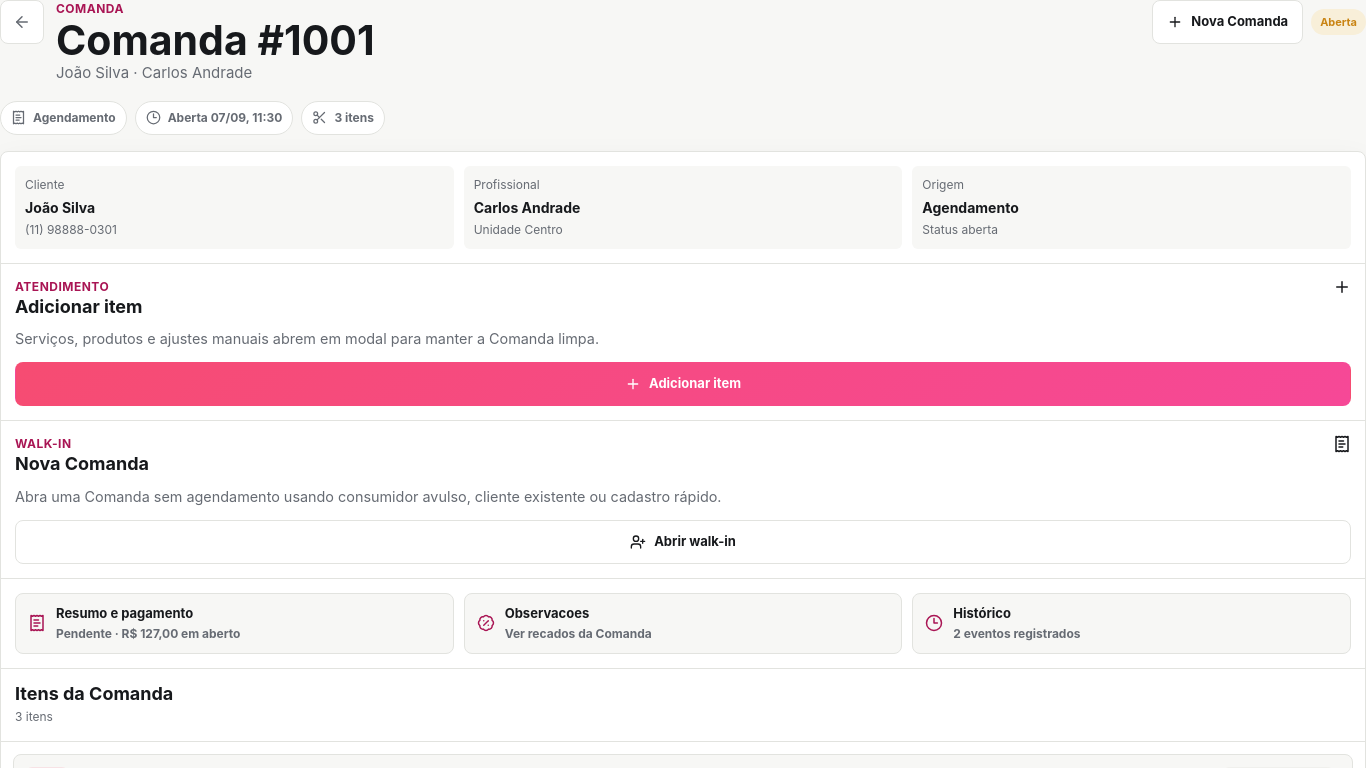
Scenario: OrderView › opens Comanda detail sections in modals instead of lateral panels
Click the button "Resumo e pagamento Pendente · R$ 127,00 em aberto": (234, 623) x1=15 y1=593 x2=454 y2=654
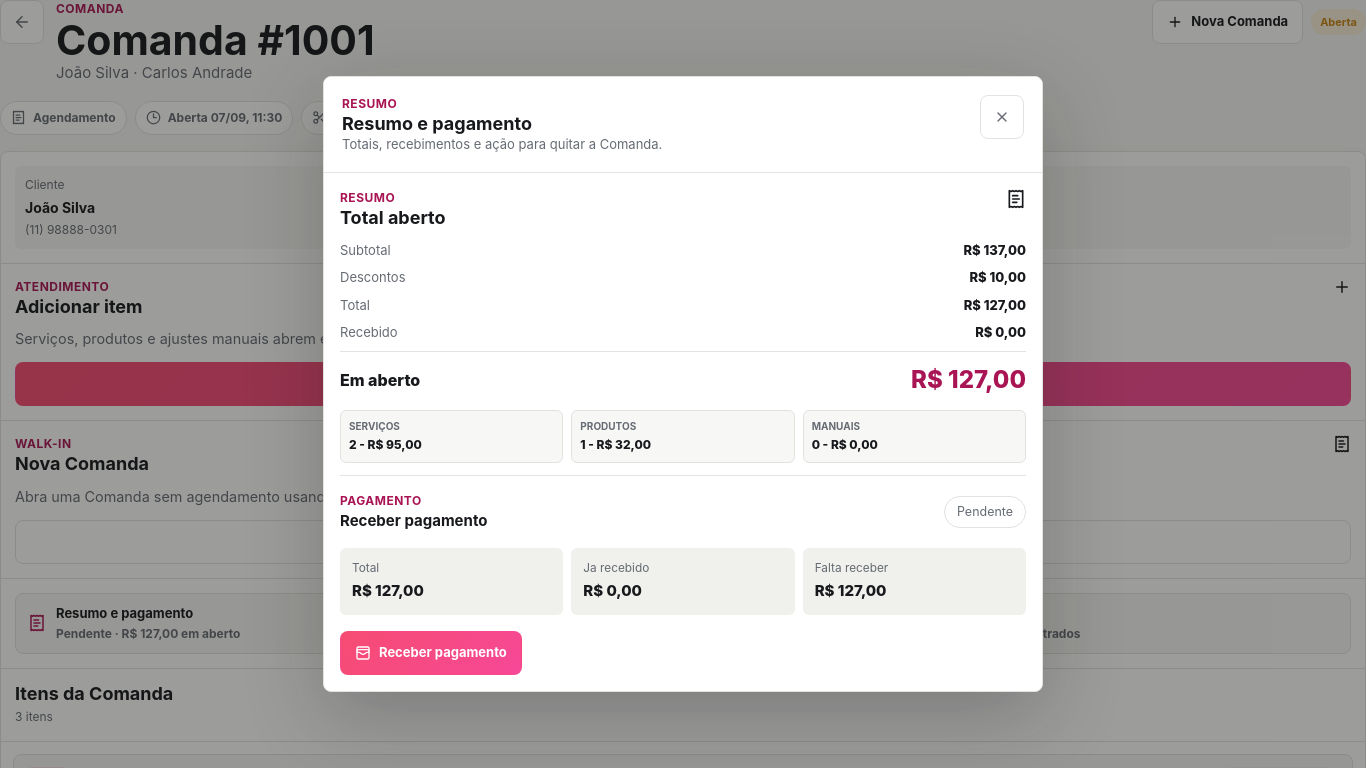
Now the dialog shows "Subtotal", box x1=340 y1=242 x2=391 y2=258
Now the dialog shows "Receber pagamento", box x1=340 y1=511 x2=487 y2=530
Now the button named "Fechar detalhe" is shown
Click the button named "Fechar detalhe": (1002, 117) x1=980 y1=95 x2=1024 y2=139
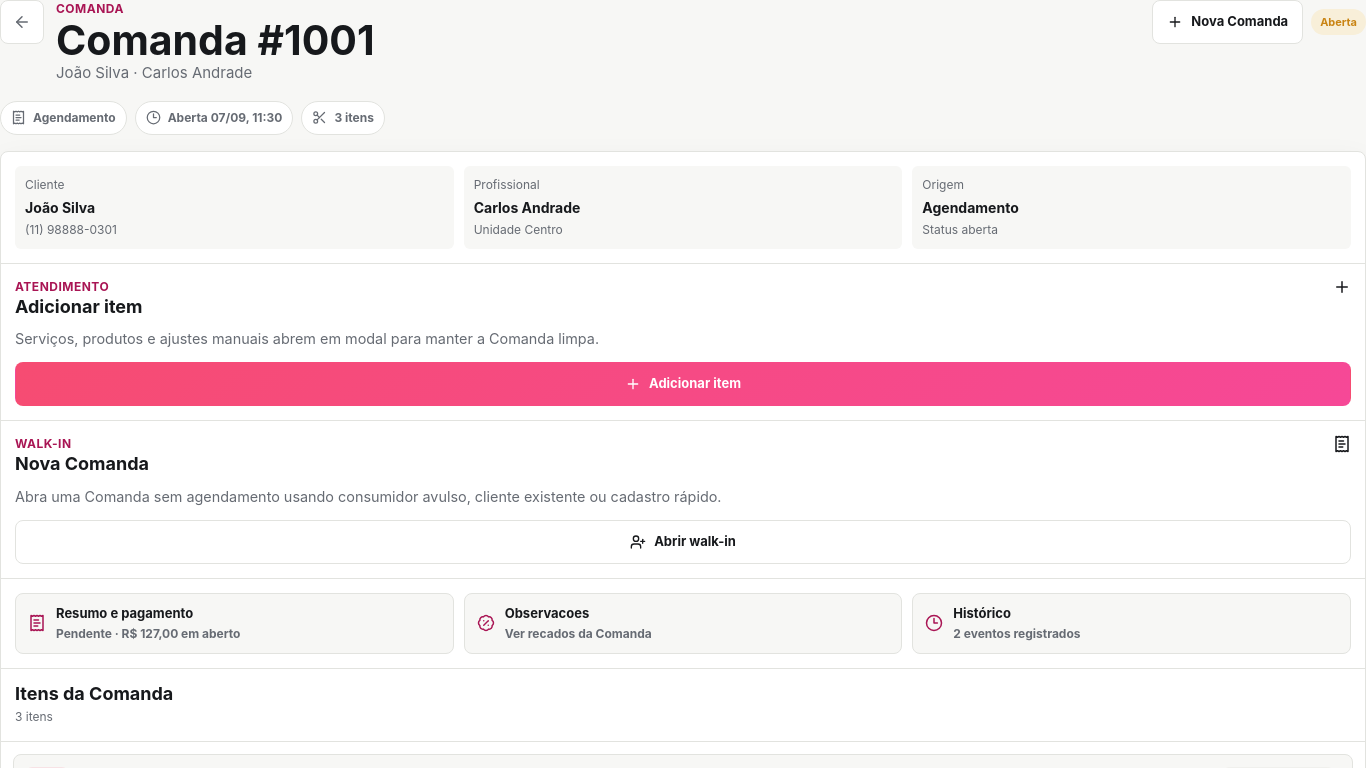
Now the dialog is gone
Click the button "Observacoes Ver recados da Comanda": (547, 613) x1=464 y1=593 x2=902 y2=654
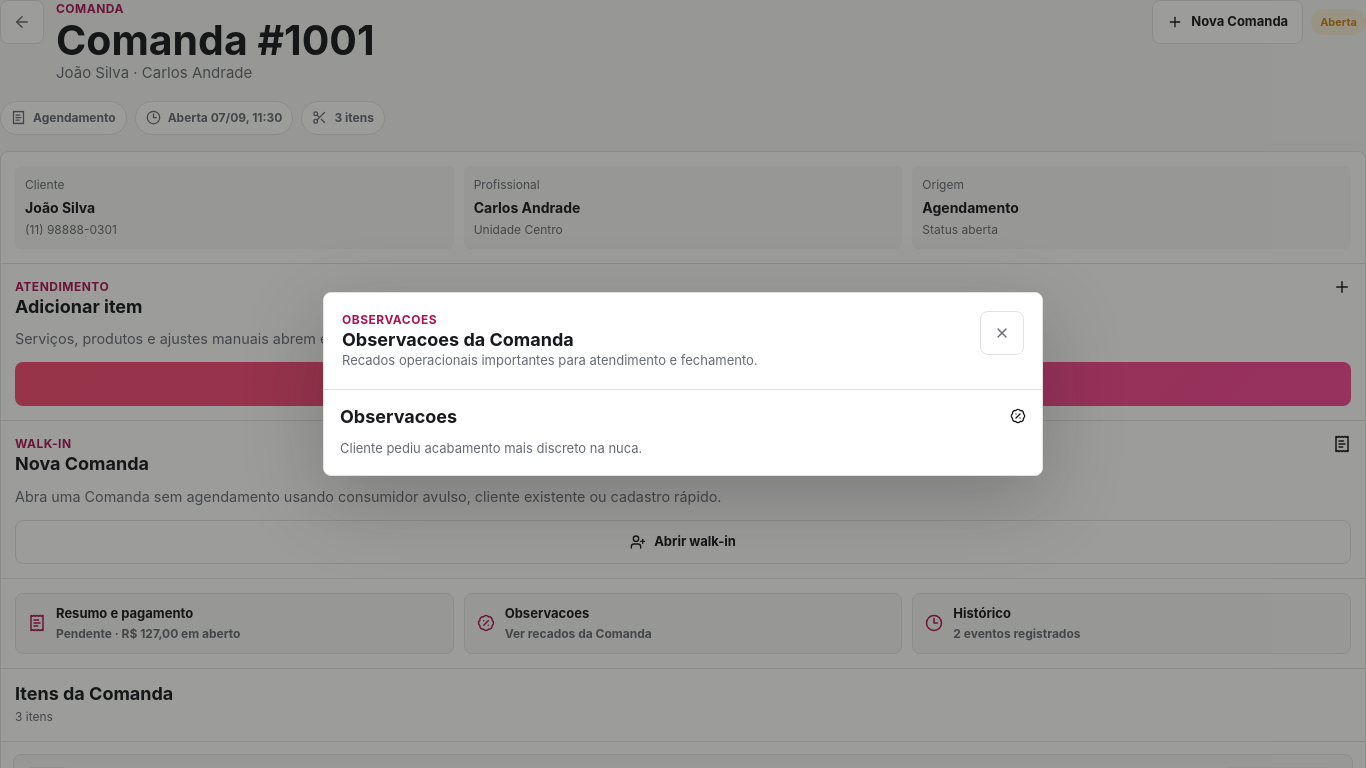
Now the dialog shows "Cliente pediu acabamento", box x1=340 y1=440 x2=642 y2=456
